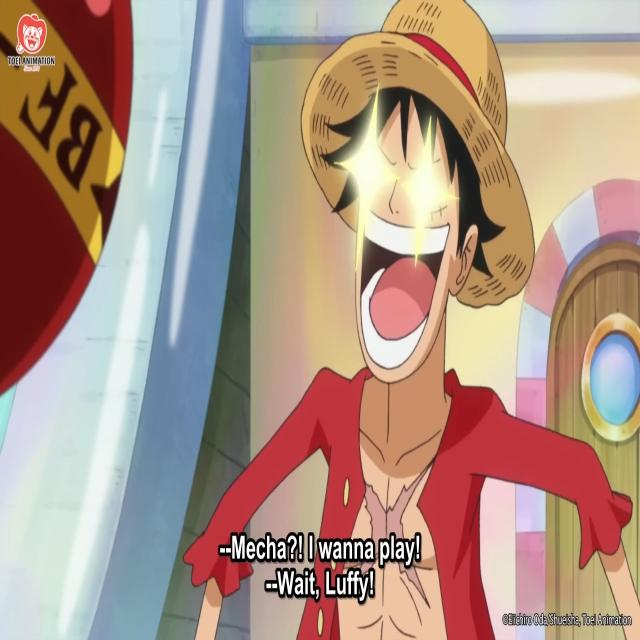Luffy: (192, 3, 640, 639)
